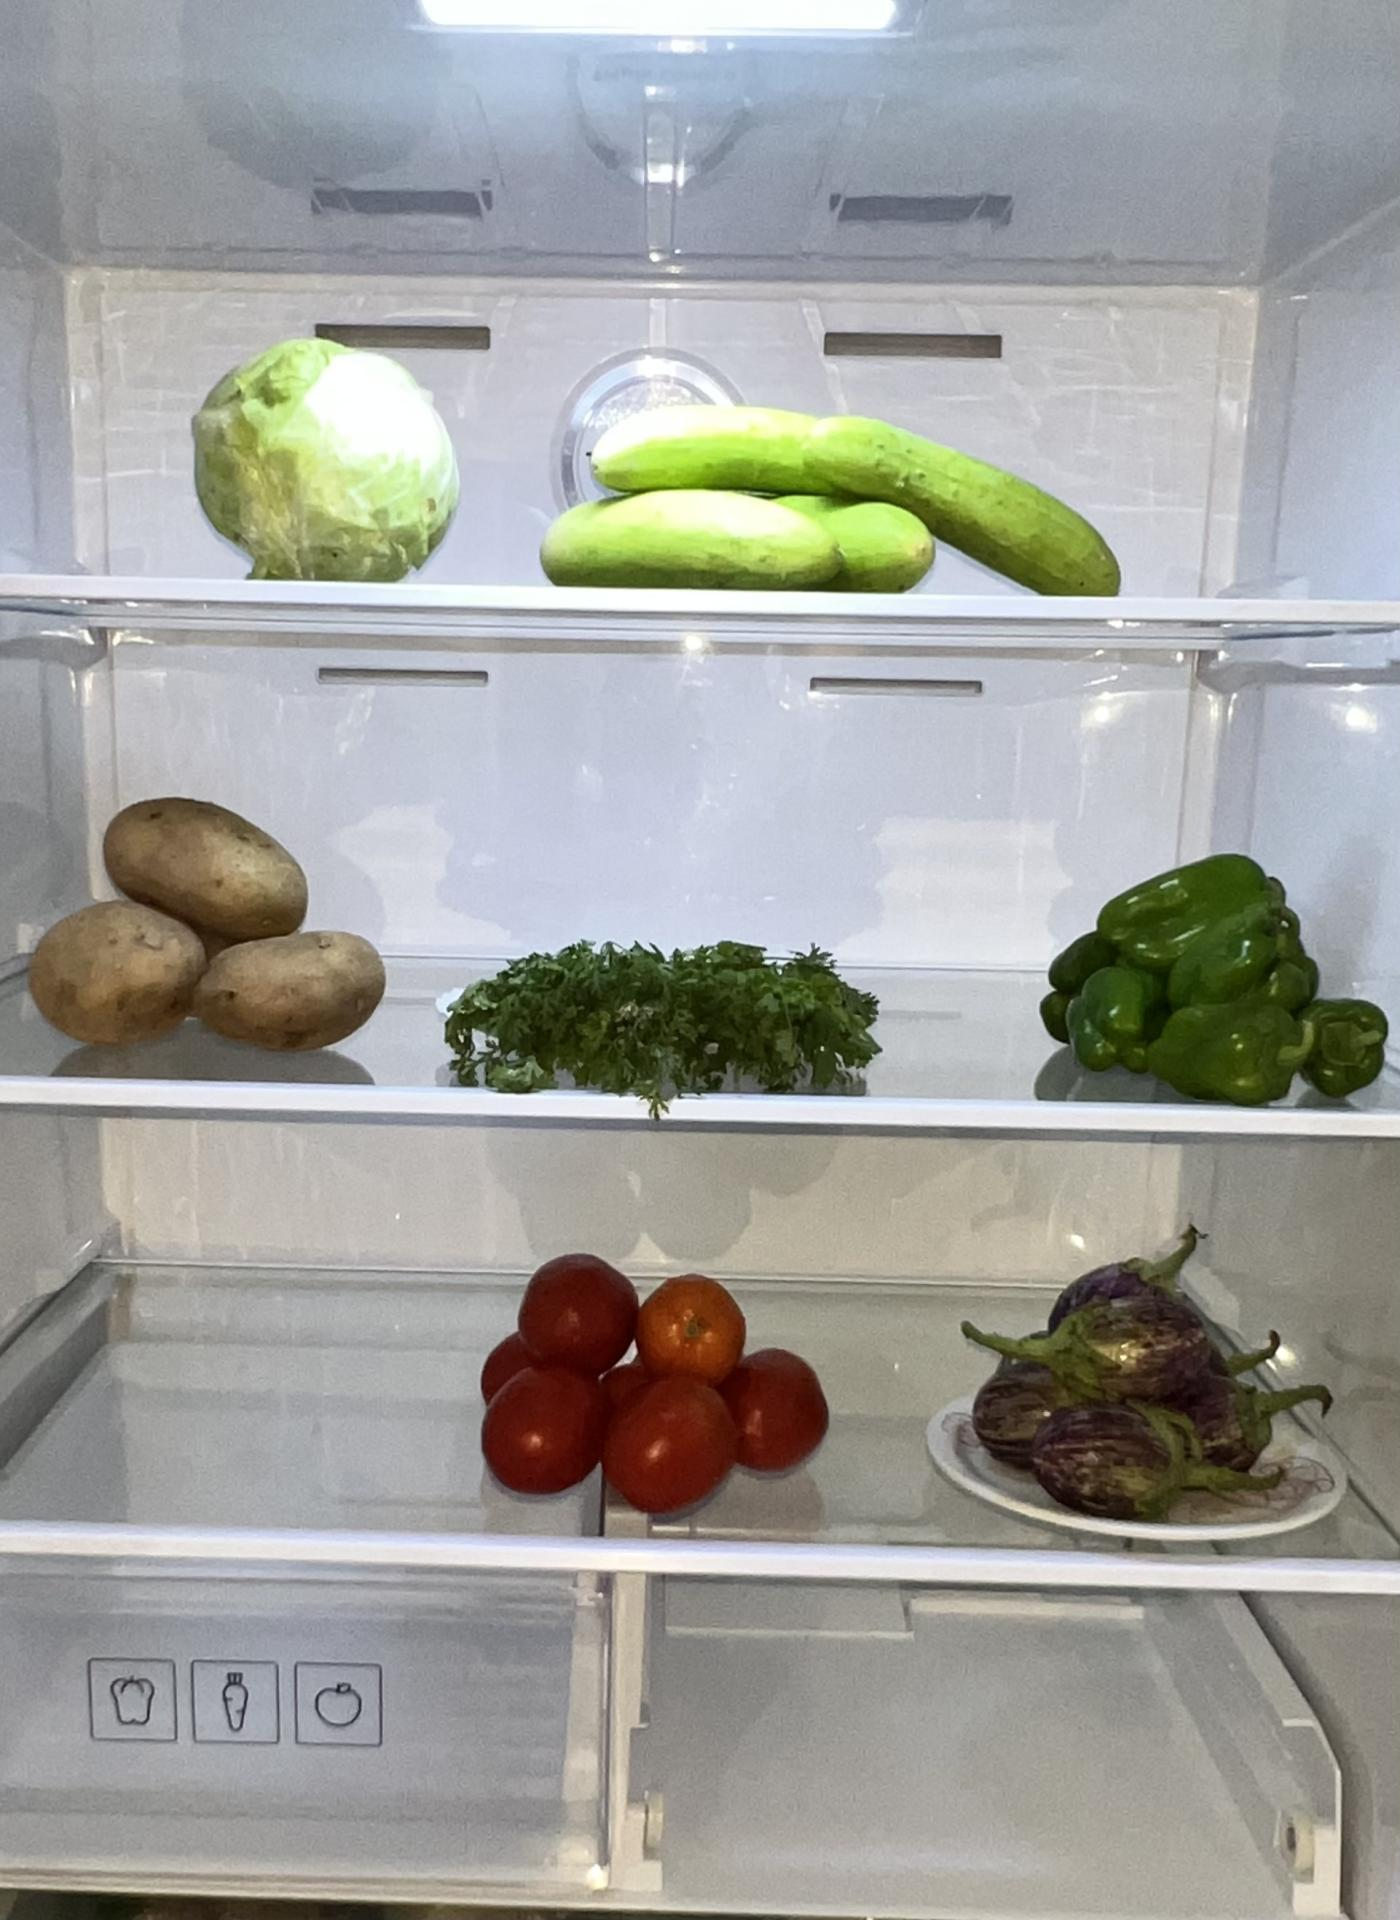cabbage: (194, 331, 467, 586)
capsicum: (1035, 844, 1390, 1097)
coriander: (434, 923, 880, 1088)
cucumber: (547, 405, 1130, 607)
potato: (37, 792, 388, 1052)
tomato: (464, 1233, 845, 1523)
